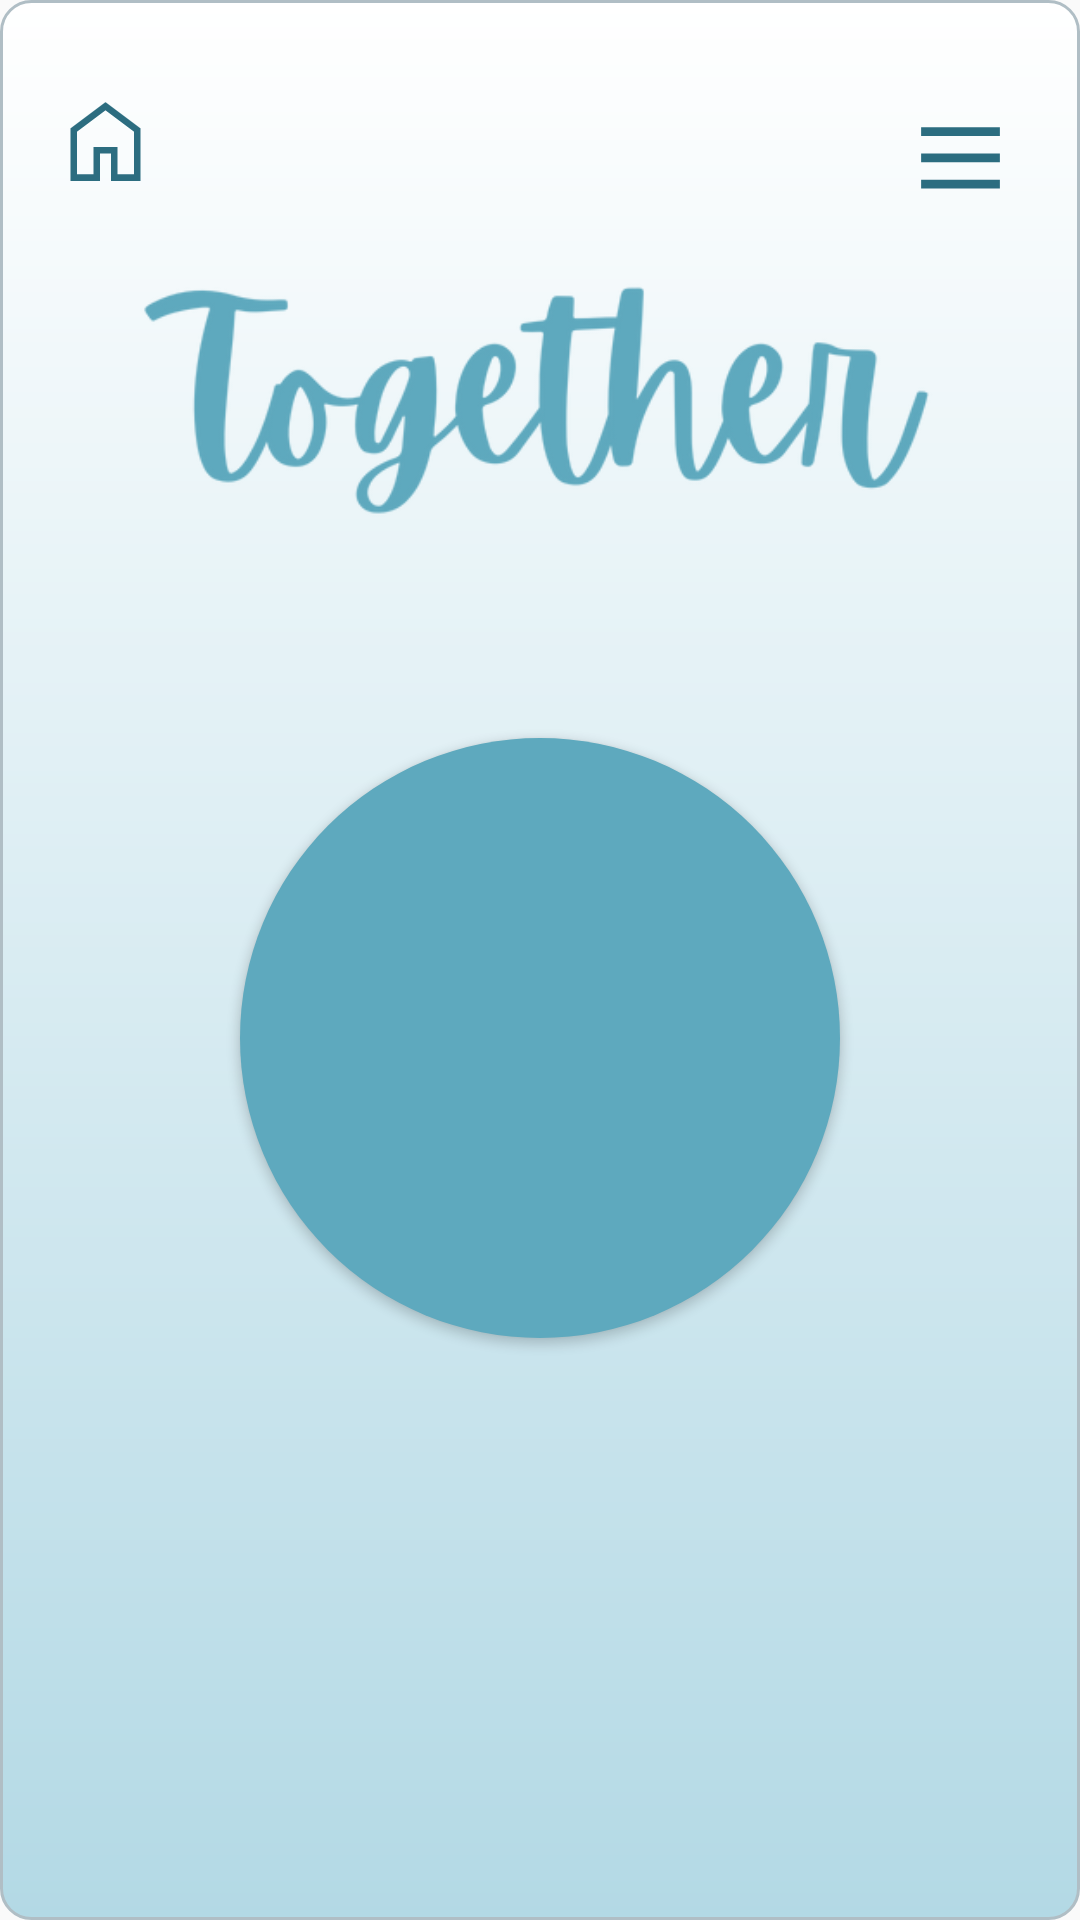

Named icons in this screenshot (1080px x 1920px) and their centers, (x=x, y=y):
hamburger: (x=960, y=158)
homebutton: (x=105, y=141)
